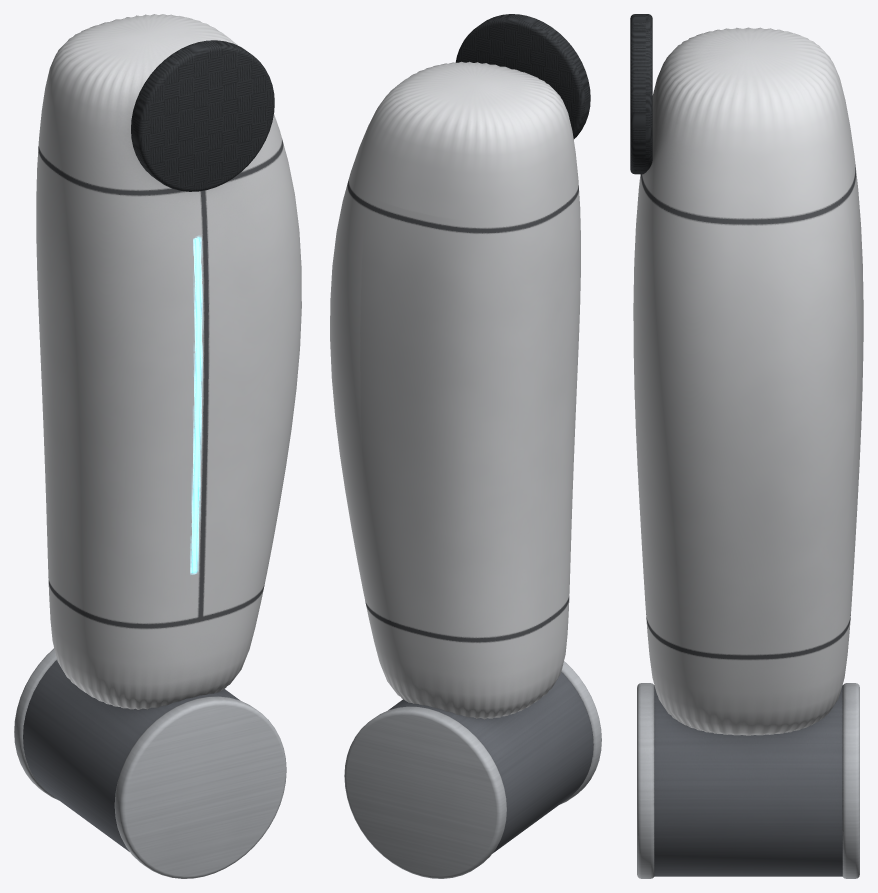
Rendered from right_thigh.glb.
3 views of the same model, side by side, from view 1: azimuth 30°, elevation 25°; view 2: azimuth 150°, elevation 25°; view 3: azimuth 270°, elevation 25° (orthographic). The views are drawn at different scales.
Visible parts, largest first — view 1: right_thigh; view 2: right_thigh; view 3: right_thigh.
Boxes of the visible parts, bbox=[...] form: right_thigh: bbox=[14, 14, 301, 878]; right_thigh: bbox=[330, 14, 601, 878]; right_thigh: bbox=[630, 14, 863, 878].
Size of the model in its own units: 0.1208 by 0.42 by 0.1046.
Materials: 1 (1 with a texture image).
